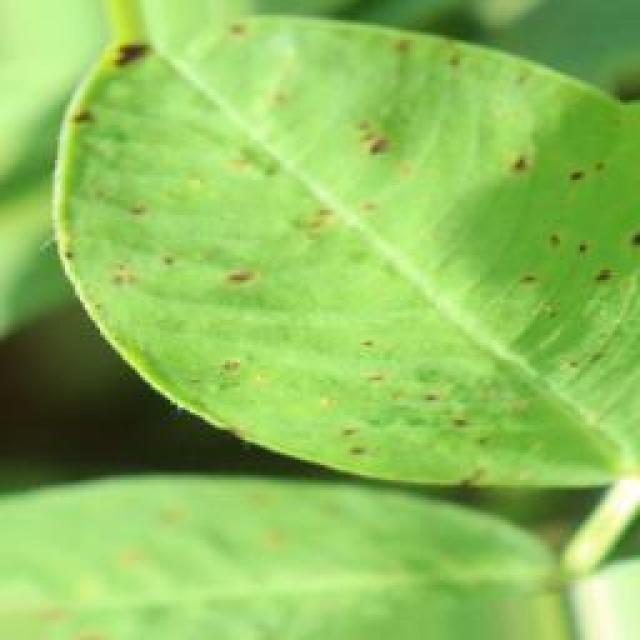Sigatoka: (270, 317, 493, 518), (468, 110, 640, 312), (145, 170, 295, 332), (324, 104, 410, 204), (77, 23, 176, 104), (10, 70, 90, 146)
